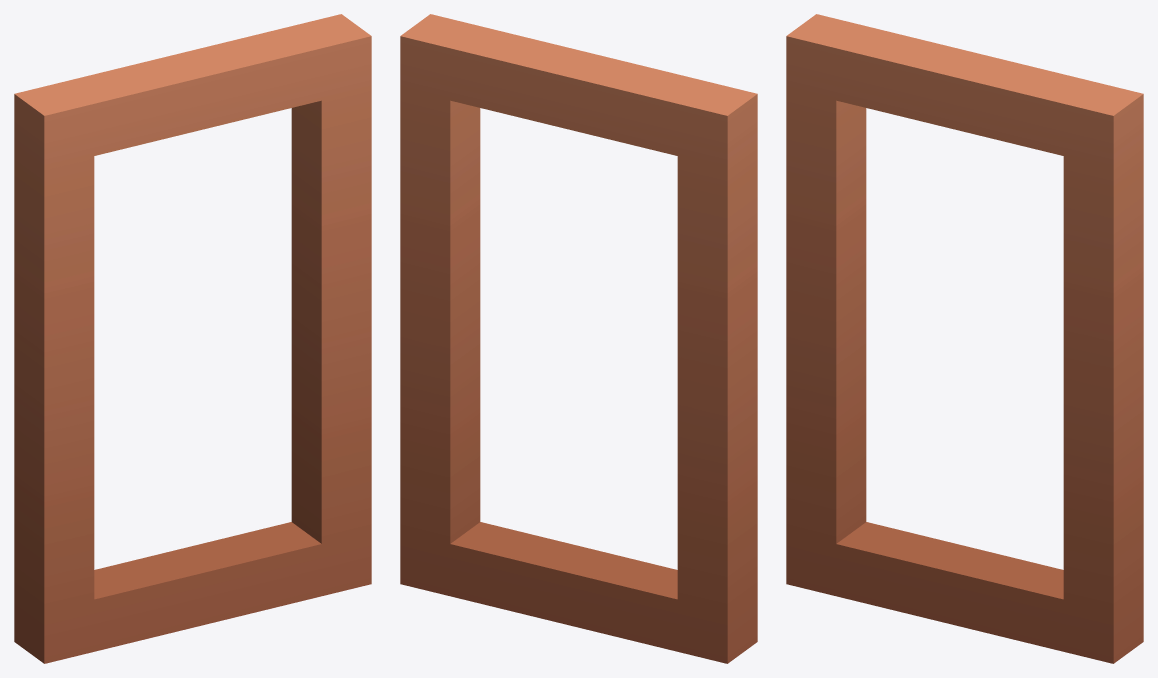
File: window-brown-tall.glb
3 views of the same model, side by side, from view 1: azimuth 30°, elevation 25°; view 2: azimuth 150°, elevation 25°; view 3: azimuth 330°, elevation 25° (orthographic).
Visible parts, largest first — view 1: window-brown-tall; view 2: window-brown-tall; view 3: window-brown-tall.
Part boxes in pixels (<box>): window-brown-tall: <box>14,14,371,663</box>; window-brown-tall: <box>400,14,757,663</box>; window-brown-tall: <box>786,14,1143,663</box>.
Size of the model in its own units: 0.3125 by 0.5 by 0.05.
1 material, 1 textured.
